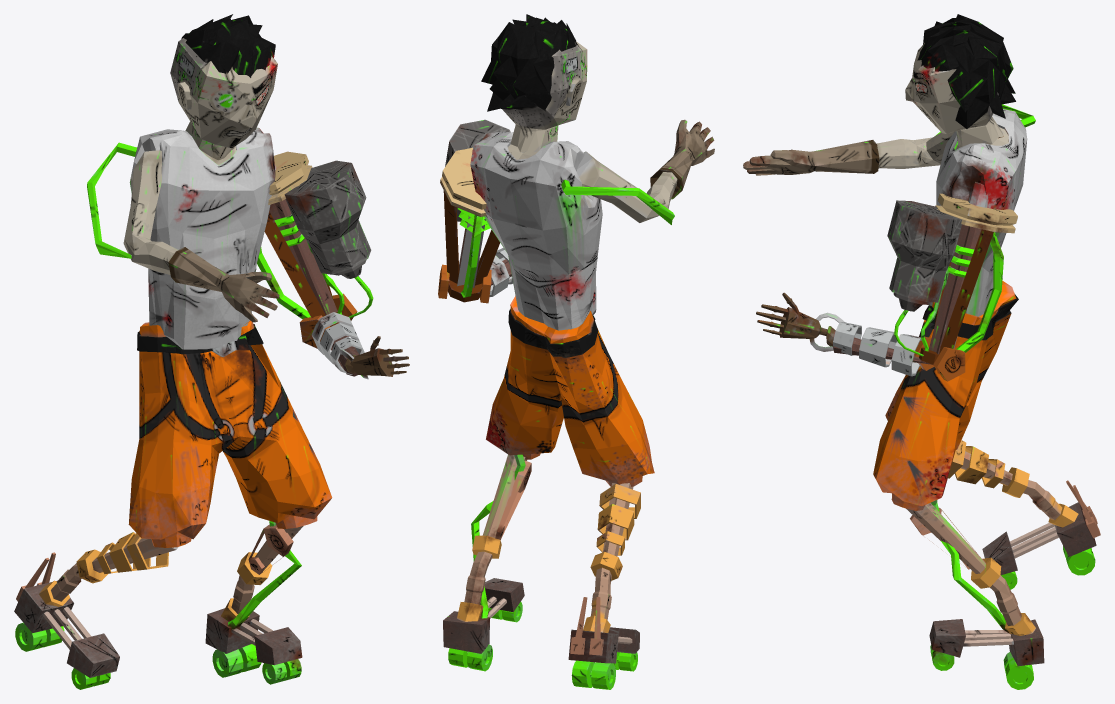
File: CyborgFINALAnimation_000016.obj
3 renders of one model, left to right at view 1: azimuth 30°, elevation 25°; view 2: azimuth 150°, elevation 25°; view 3: azimuth 270°, elevation 25°, orthographic. The views are drawn at different scales.
Visible parts, largest first — view 1: CyborgMesh_Cube.002; view 2: CyborgMesh_Cube.002; view 3: CyborgMesh_Cube.002.
Boxes of the visible parts, x1,y1,x2,y2 form: CyborgMesh_Cube.002: [14, 14, 409, 689]; CyborgMesh_Cube.002: [438, 14, 714, 689]; CyborgMesh_Cube.002: [743, 14, 1100, 689].
Size of the model in its own units: 3.66 by 9.18 by 4.63.
